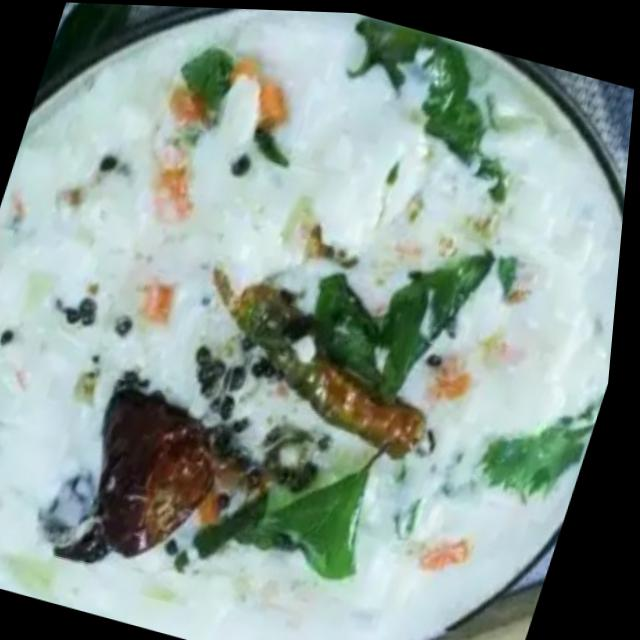CURD RICE: (0, 8, 623, 640)
